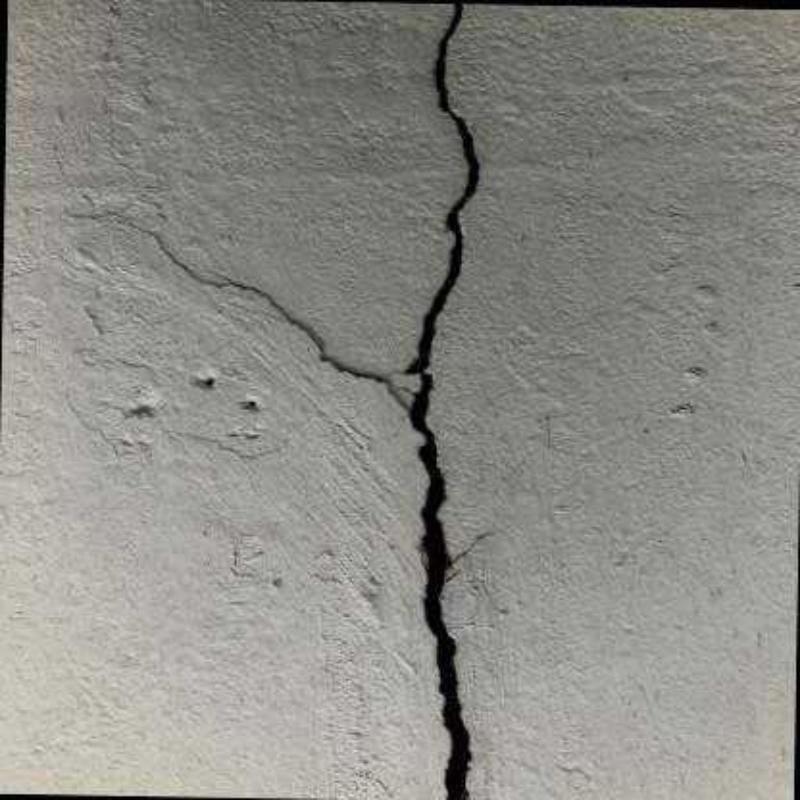crack: (136, 1, 480, 800)
